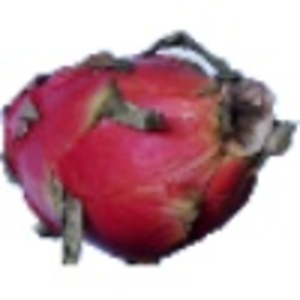pitaia: (1, 32, 300, 268)
